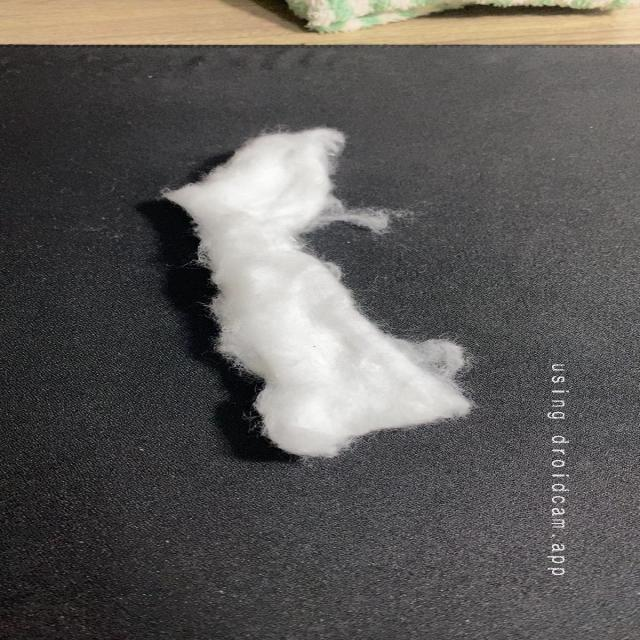cotton: (151, 120, 488, 468)
